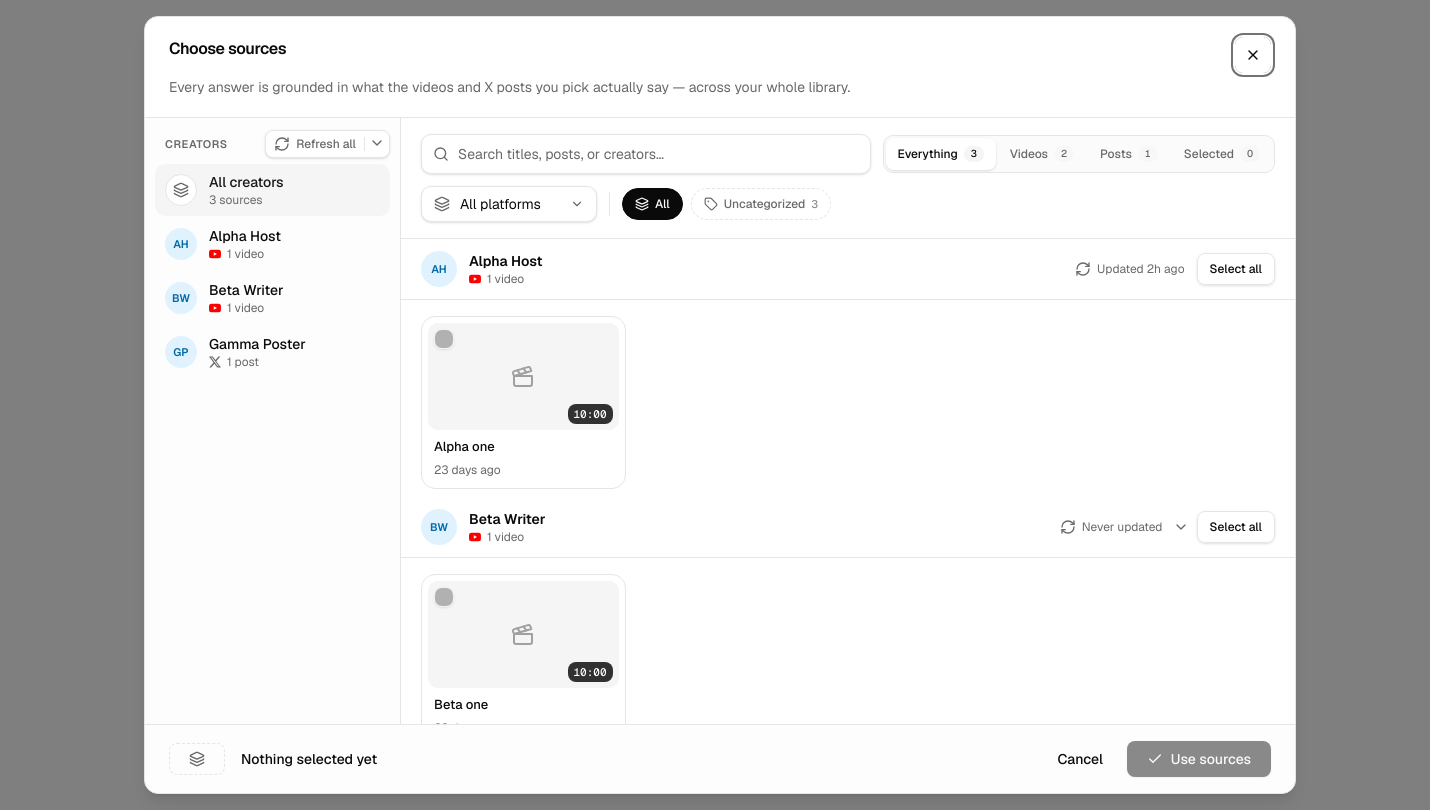
Test: ChatSourcePicker — refreshing everyone › says once that X isn't connected, while the videos still update
Click the button "Refresh all". click: (315, 144)
box: [266,131,364,157]
(page scrolled)
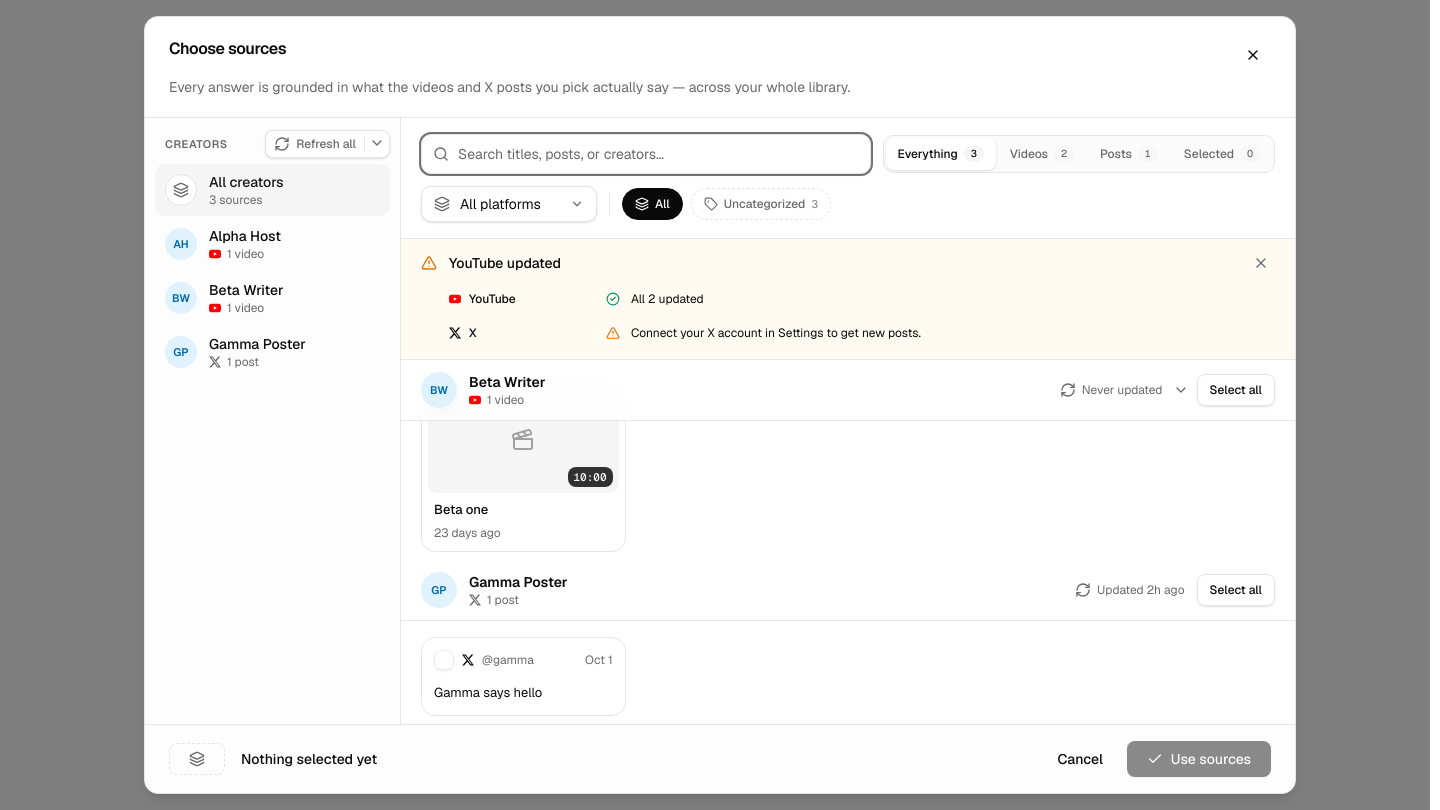
Result: the text "YouTube updated" is shown at [449,254,561,272]
Result: the list item "X" reads "X Connect your X account in Settings to get new posts." at [449,325,921,341]
Result: the list item "YouTube" shows "All 2 updated" at [631,291,704,307]
